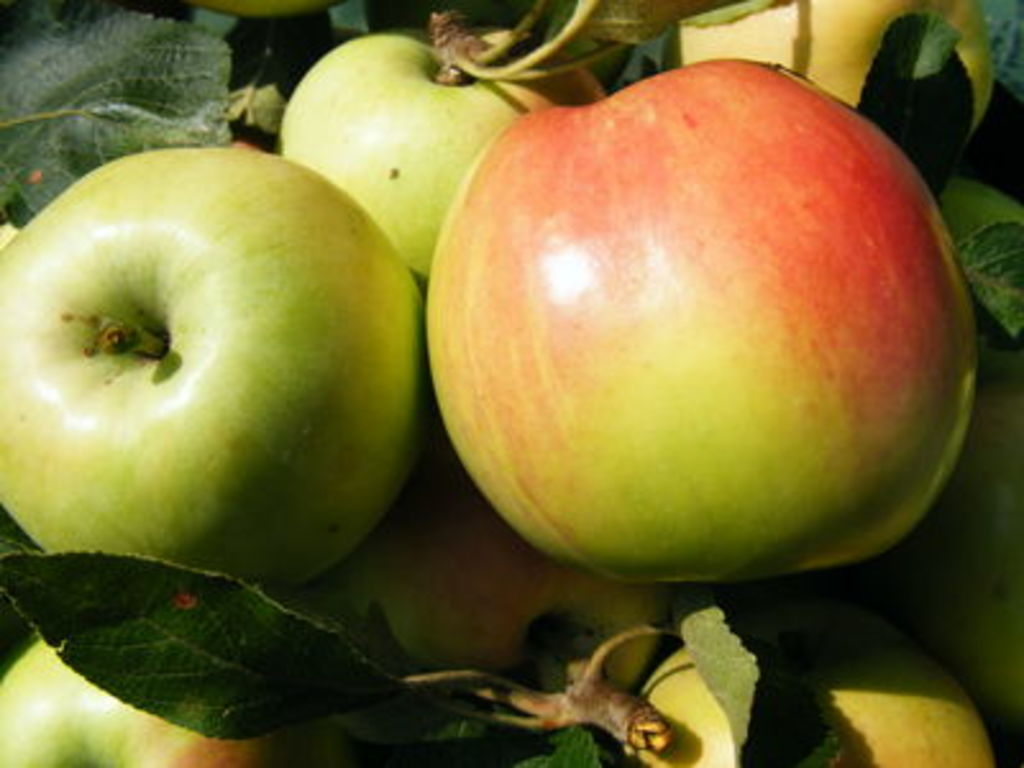Apple: (0, 0, 1021, 765), (422, 51, 980, 583)
